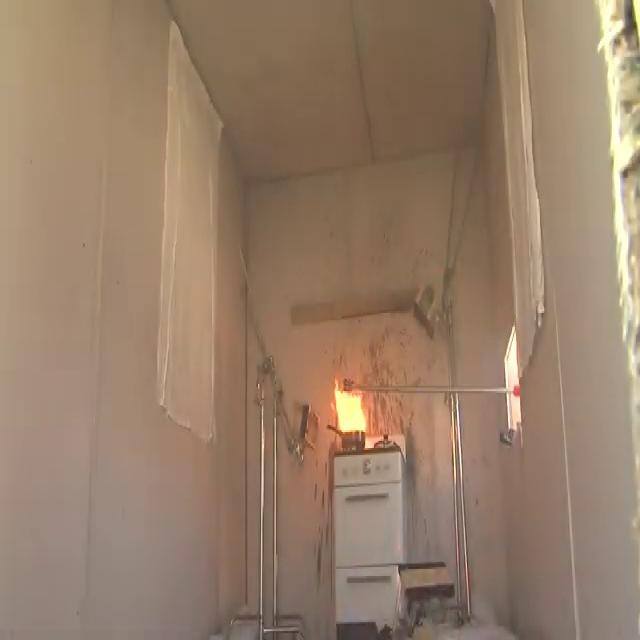fire: (318, 337, 384, 463)
